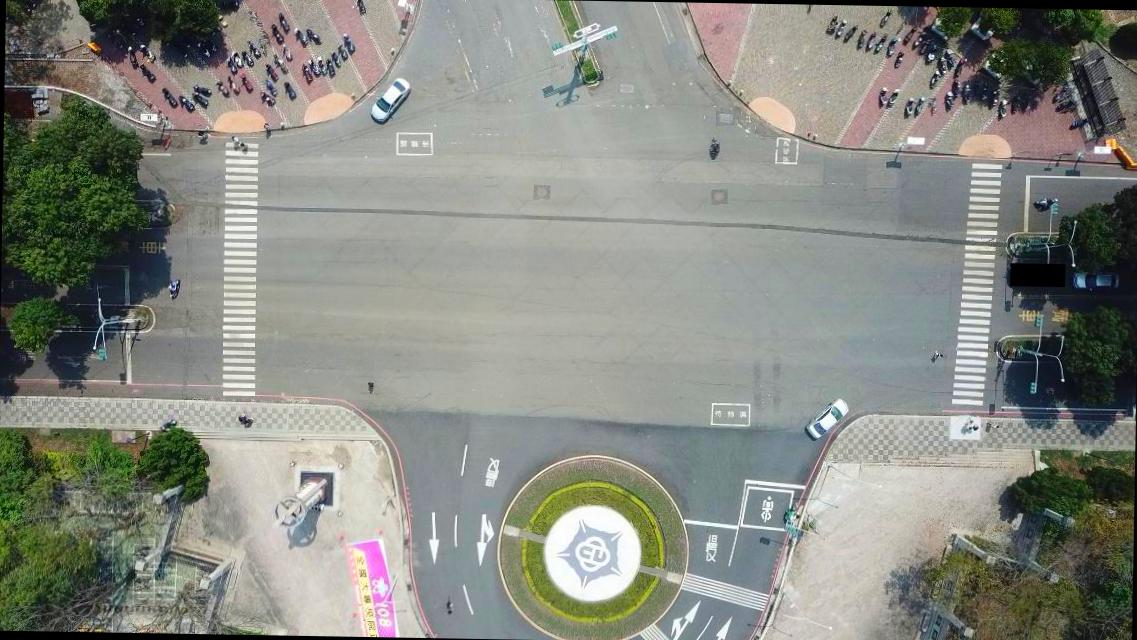vehicle: (368, 74, 412, 125), (804, 396, 851, 440), (1074, 268, 1124, 292)
